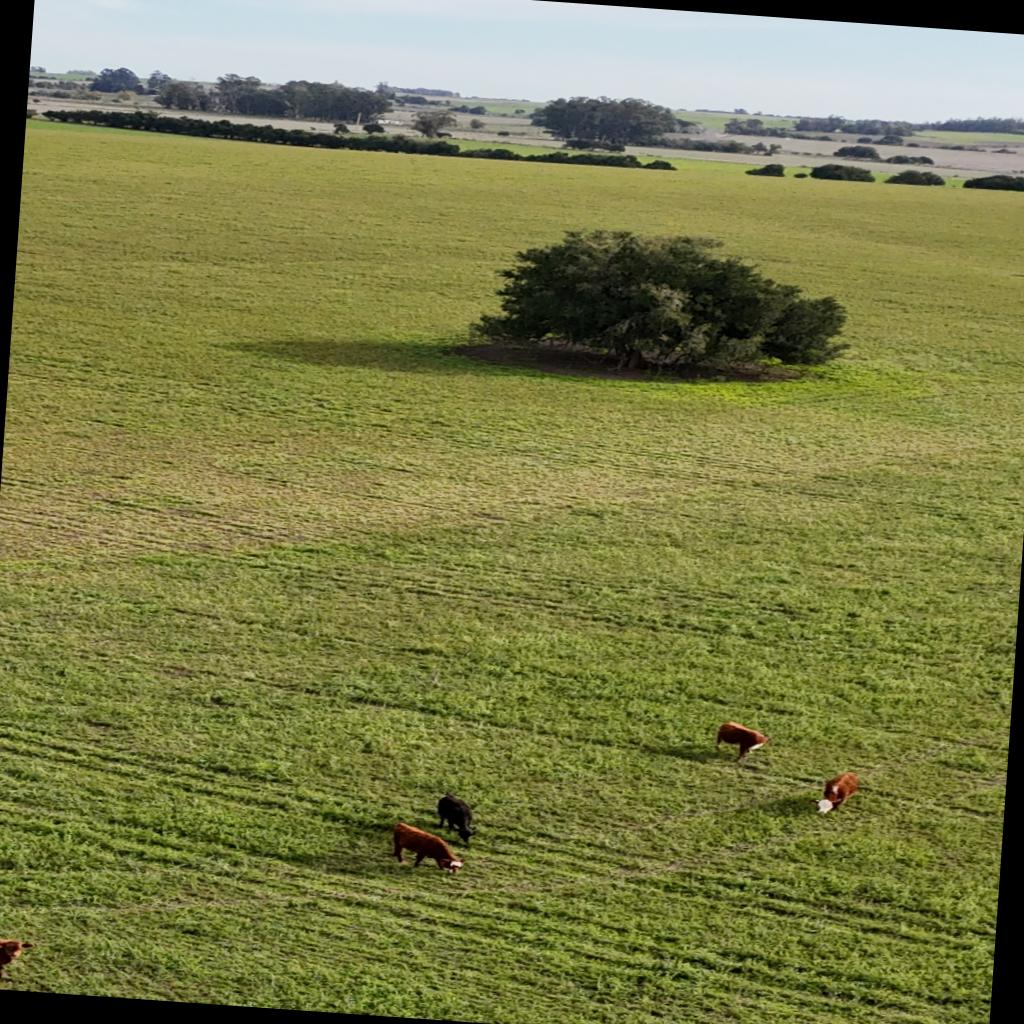cow: (390, 822, 470, 875), (430, 792, 492, 842), (714, 720, 771, 764), (814, 772, 859, 816), (0, 930, 36, 983)
